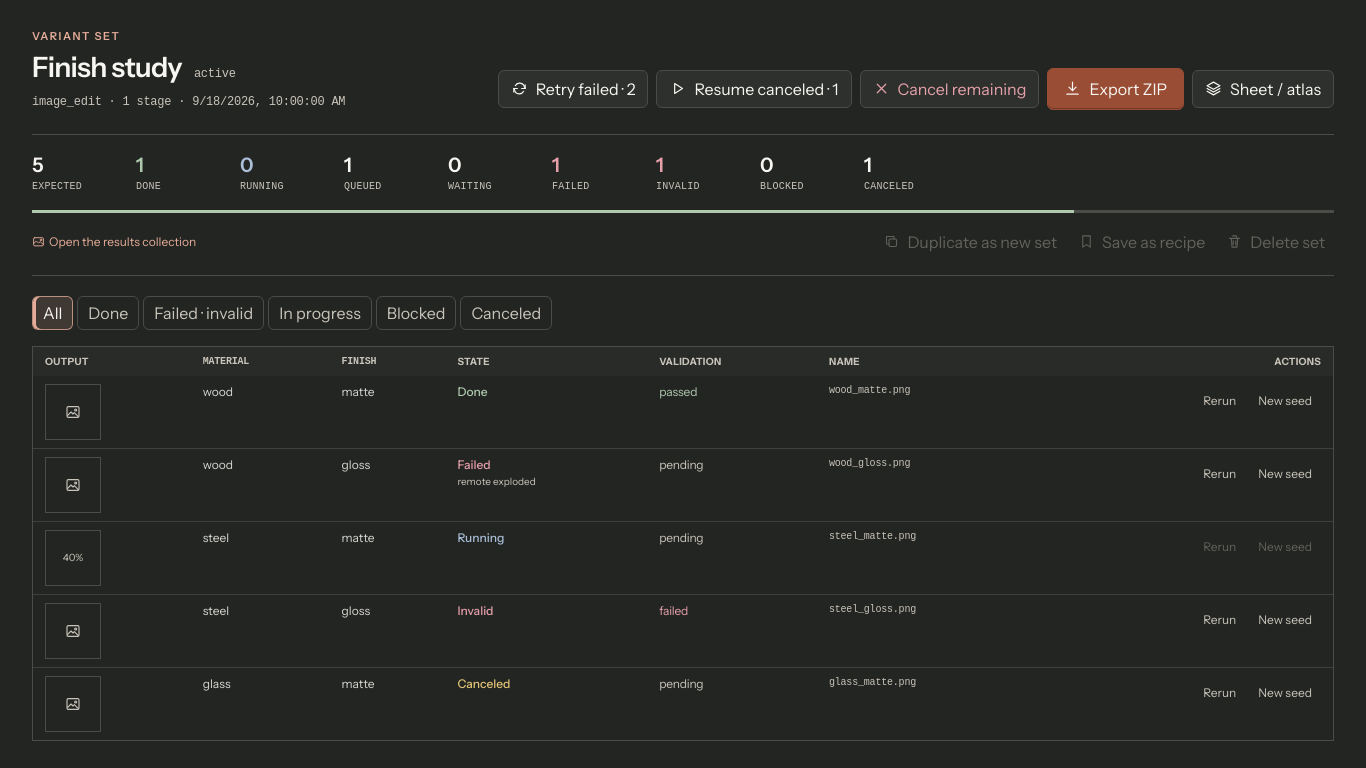
Variant Set detail › filters to the problems
Click the button "Failed · invalid" at (204,313), box [143,296,264,330]
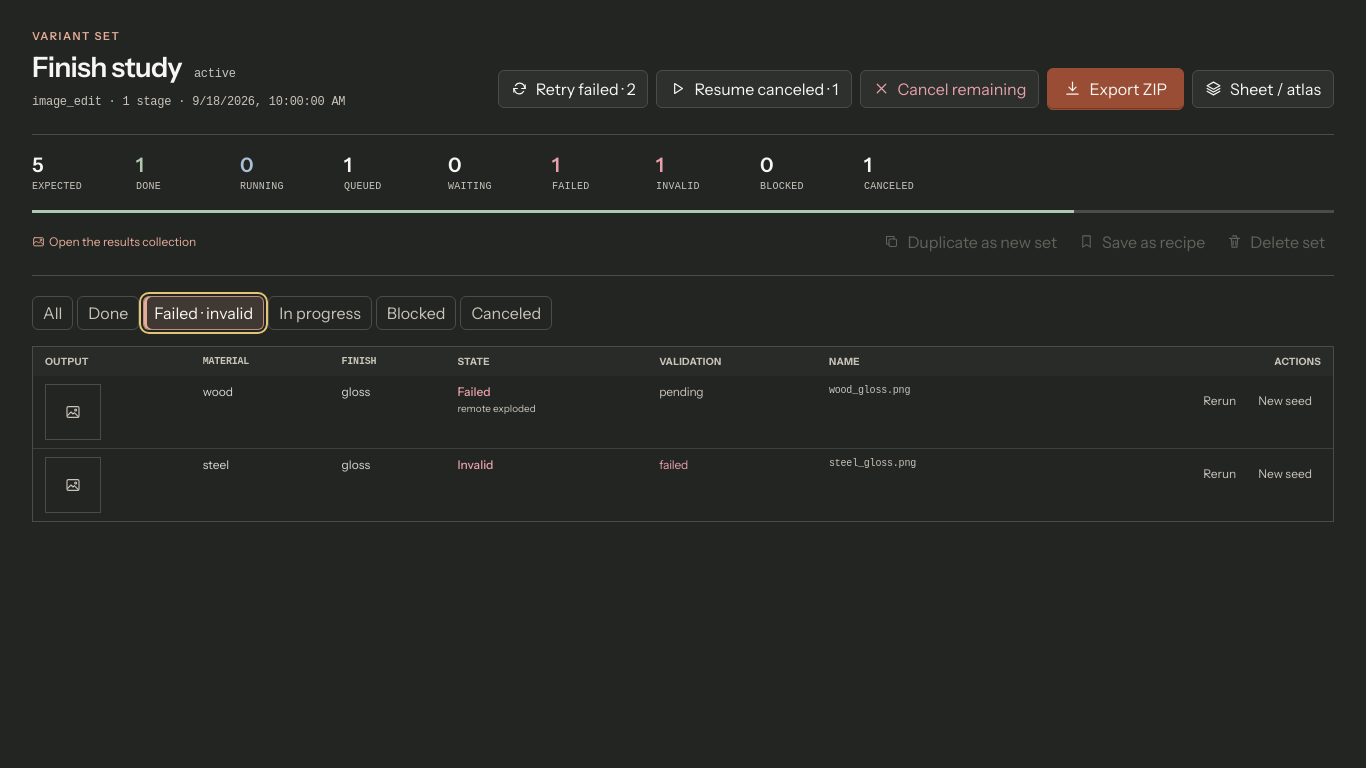
Expected: the number of rows with test id "variant-row" is 2, [33,376,1333,449]; [33,449,1333,521]
